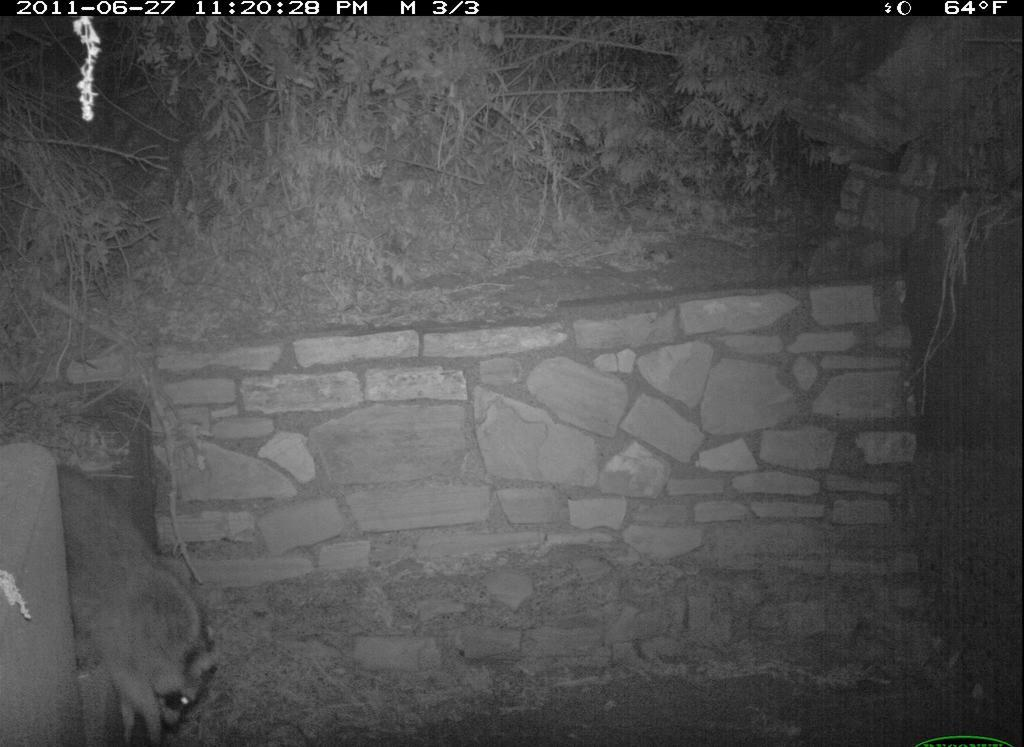raccoon: (57, 463, 225, 747)
